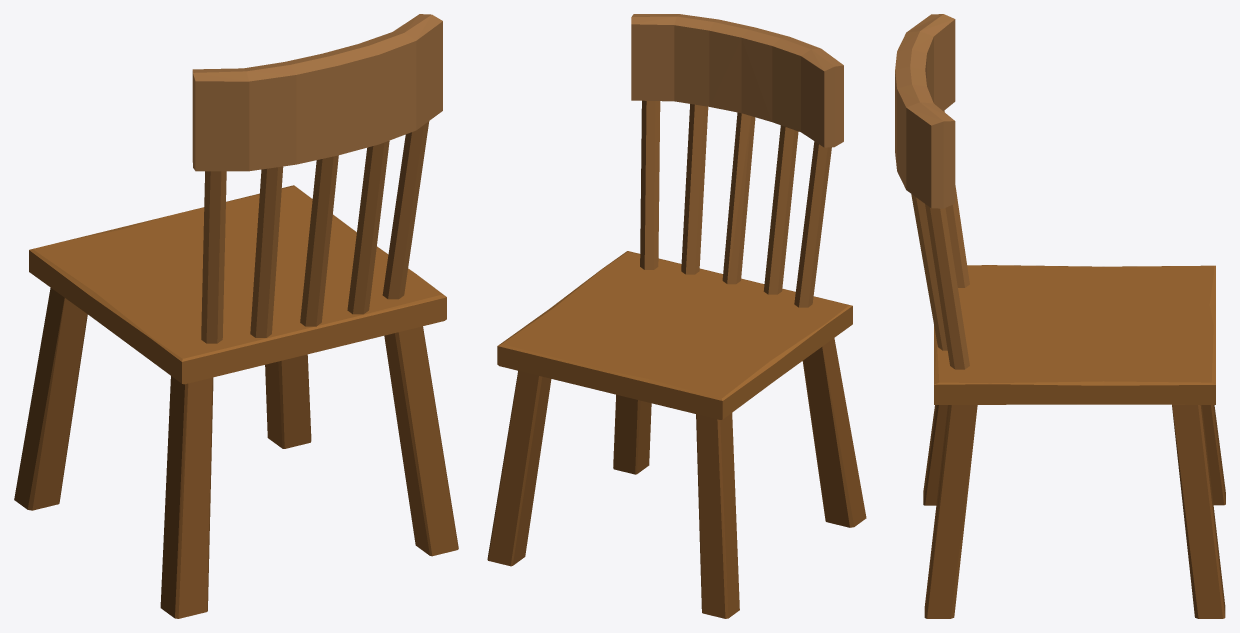
The model's file is BG_Chair.fbx.
The picture shows the model from 3 angles, left to right: view 1: azimuth 30°, elevation 25°; view 2: azimuth 150°, elevation 25°; view 3: azimuth 270°, elevation 25°; orthographic projection. The views are drawn at different scales.
Parts seen in each view (by area): view 1: BG_Chair; view 2: BG_Chair; view 3: BG_Chair.
Part boxes in pixels (left/top/right/bottom): BG_Chair: left=14, top=14, right=458, bottom=618; BG_Chair: left=487, top=14, right=866, bottom=618; BG_Chair: left=895, top=14, right=1225, bottom=618.
Bounding box in the file's own units: 33.35 × 59.64 × 36.45.
Materials: 1 (1 with a texture image).
